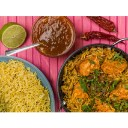briyani: (69, 53, 128, 111), (1, 60, 51, 112)
